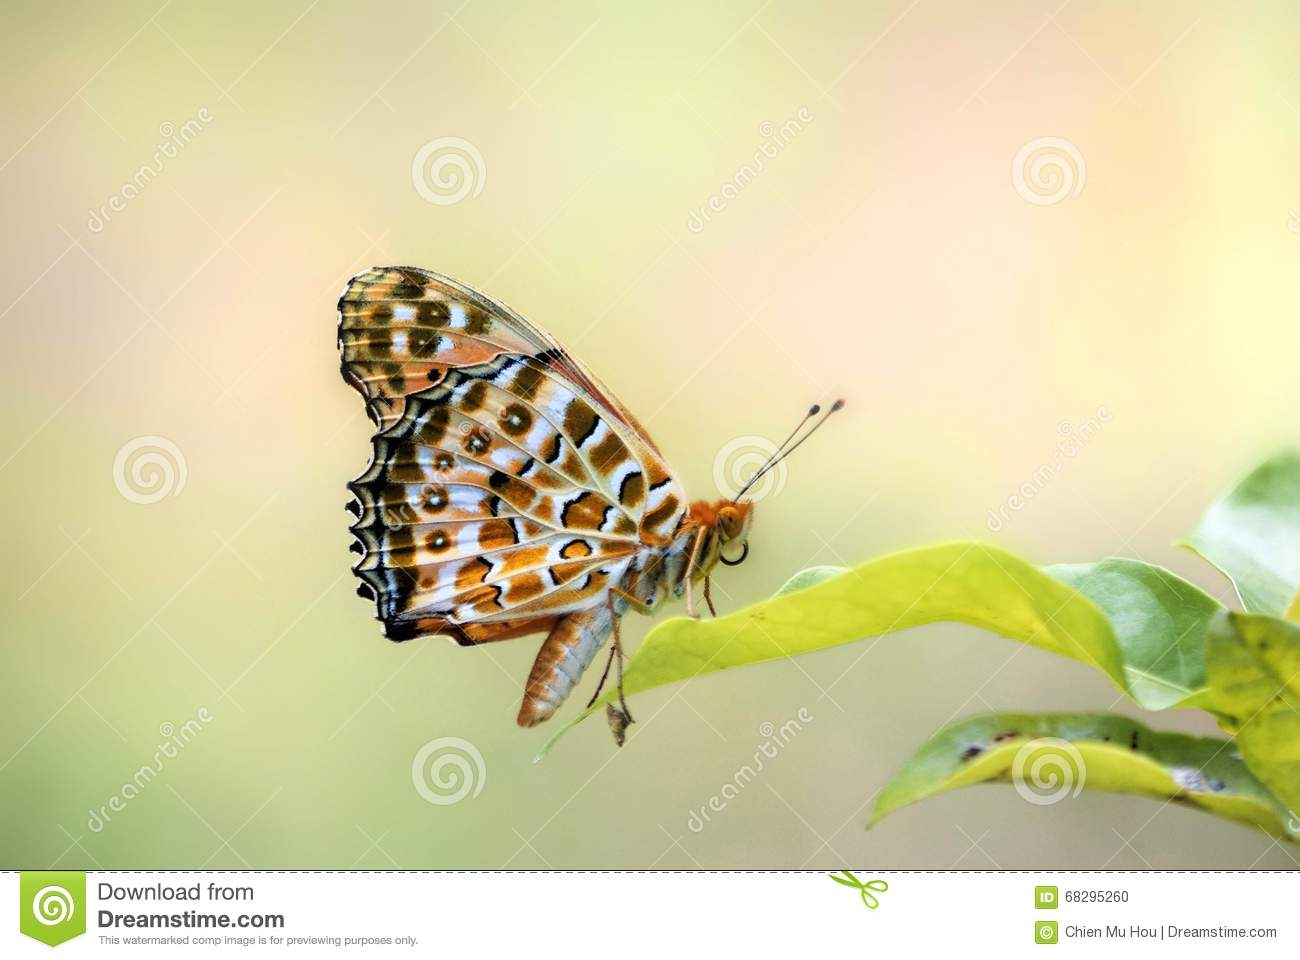Argyreus hyperbius: (324, 252, 854, 737)
butterfly: (326, 254, 856, 739)
